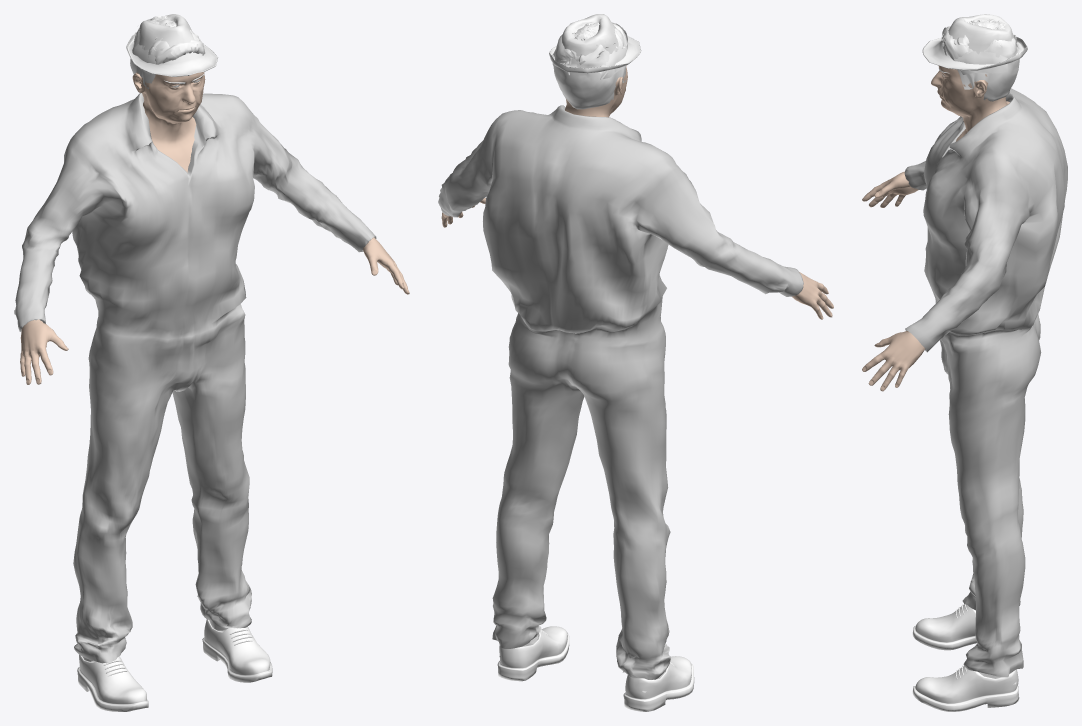
The picture shows the model from 3 angles, left to right: view 1: azimuth 30°, elevation 25°; view 2: azimuth 150°, elevation 25°; view 3: azimuth 270°, elevation 25°; orthographic projection.
Parts seen in each view (by area): view 1: male_casualsuit01Mesh, fedora_man_1Mesh, shoes03Mesh, fedoraMesh, short01Mesh; view 2: male_casualsuit01Mesh, shoes03Mesh, short01Mesh, fedoraMesh, fedora_man_1Mesh; view 3: male_casualsuit01Mesh, shoes03Mesh, fedora_man_1Mesh, short01Mesh, fedoraMesh.
Boxes of the visible parts, bbox=[...] form: male_casualsuit01Mesh: bbox=[14, 93, 376, 663]; fedora_man_1Mesh: bbox=[20, 72, 409, 384]; shoes03Mesh: bbox=[77, 619, 272, 711]; fedoraMesh: bbox=[126, 14, 217, 76]; short01Mesh: bbox=[130, 15, 205, 93]; male_casualsuit01Mesh: bbox=[438, 105, 803, 679]; shoes03Mesh: bbox=[497, 626, 694, 711]; short01Mesh: bbox=[552, 22, 627, 109]; fedoraMesh: bbox=[549, 14, 641, 73]; fedora_man_1Mesh: bbox=[441, 66, 833, 319]; male_casualsuit01Mesh: bbox=[904, 88, 1067, 677]; shoes03Mesh: bbox=[912, 604, 1019, 711]; fedora_man_1Mesh: bbox=[862, 65, 1009, 391]; short01Mesh: bbox=[941, 19, 1019, 101]; fedoraMesh: bbox=[922, 14, 1027, 70].
Bounding box in the file's own units: 11.12 × 18.34 × 5.25.
